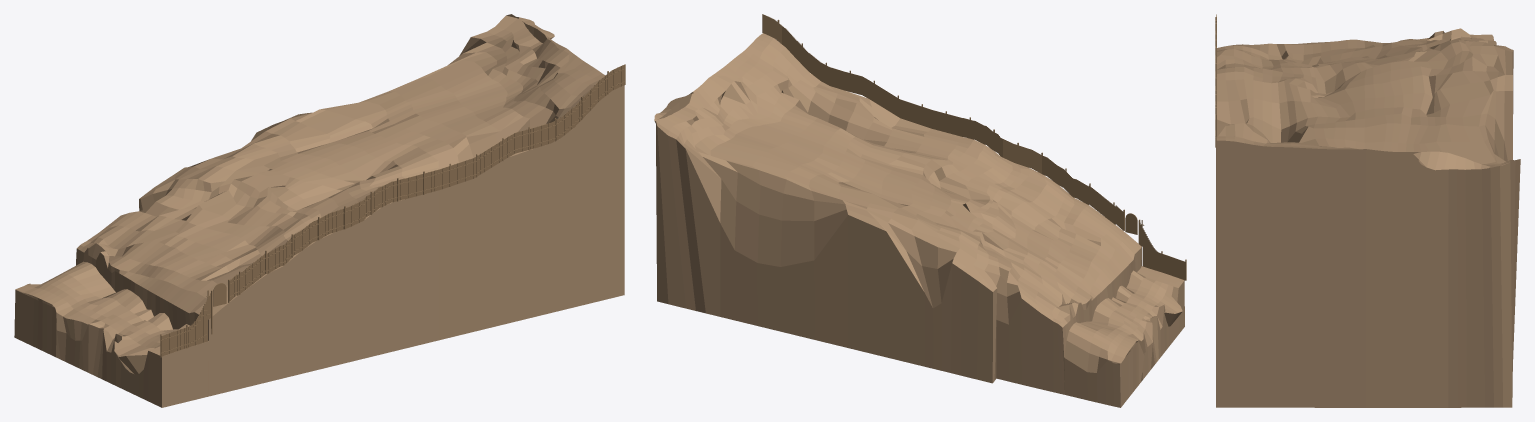
Rendered from neighbour_left.glb.
3 views of the same model, side by side, from view 1: azimuth 30°, elevation 25°; view 2: azimuth 150°, elevation 25°; view 3: azimuth 270°, elevation 25° (orthographic). The views are drawn at different scales.
Visible parts, largest first — view 1: Terrain 01 - NGL.001, Wooden Fence; view 2: Terrain 01 - NGL.001, Wooden Fence; view 3: Terrain 01 - NGL.001.
Part boxes in pixels (x1,y1,x2,y2): Terrain 01 - NGL.001: (14,14,624,407); Wooden Fence: (160,64,625,357); Terrain 01 - NGL.001: (654,33,1184,407); Wooden Fence: (762,14,1186,280); Terrain 01 - NGL.001: (1216,28,1520,407).
Size of the model in its own units: 47.14 by 20.07 by 18.96.
